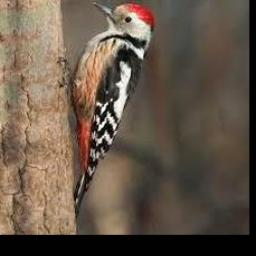Woodpecker: (58, 2, 154, 219)
